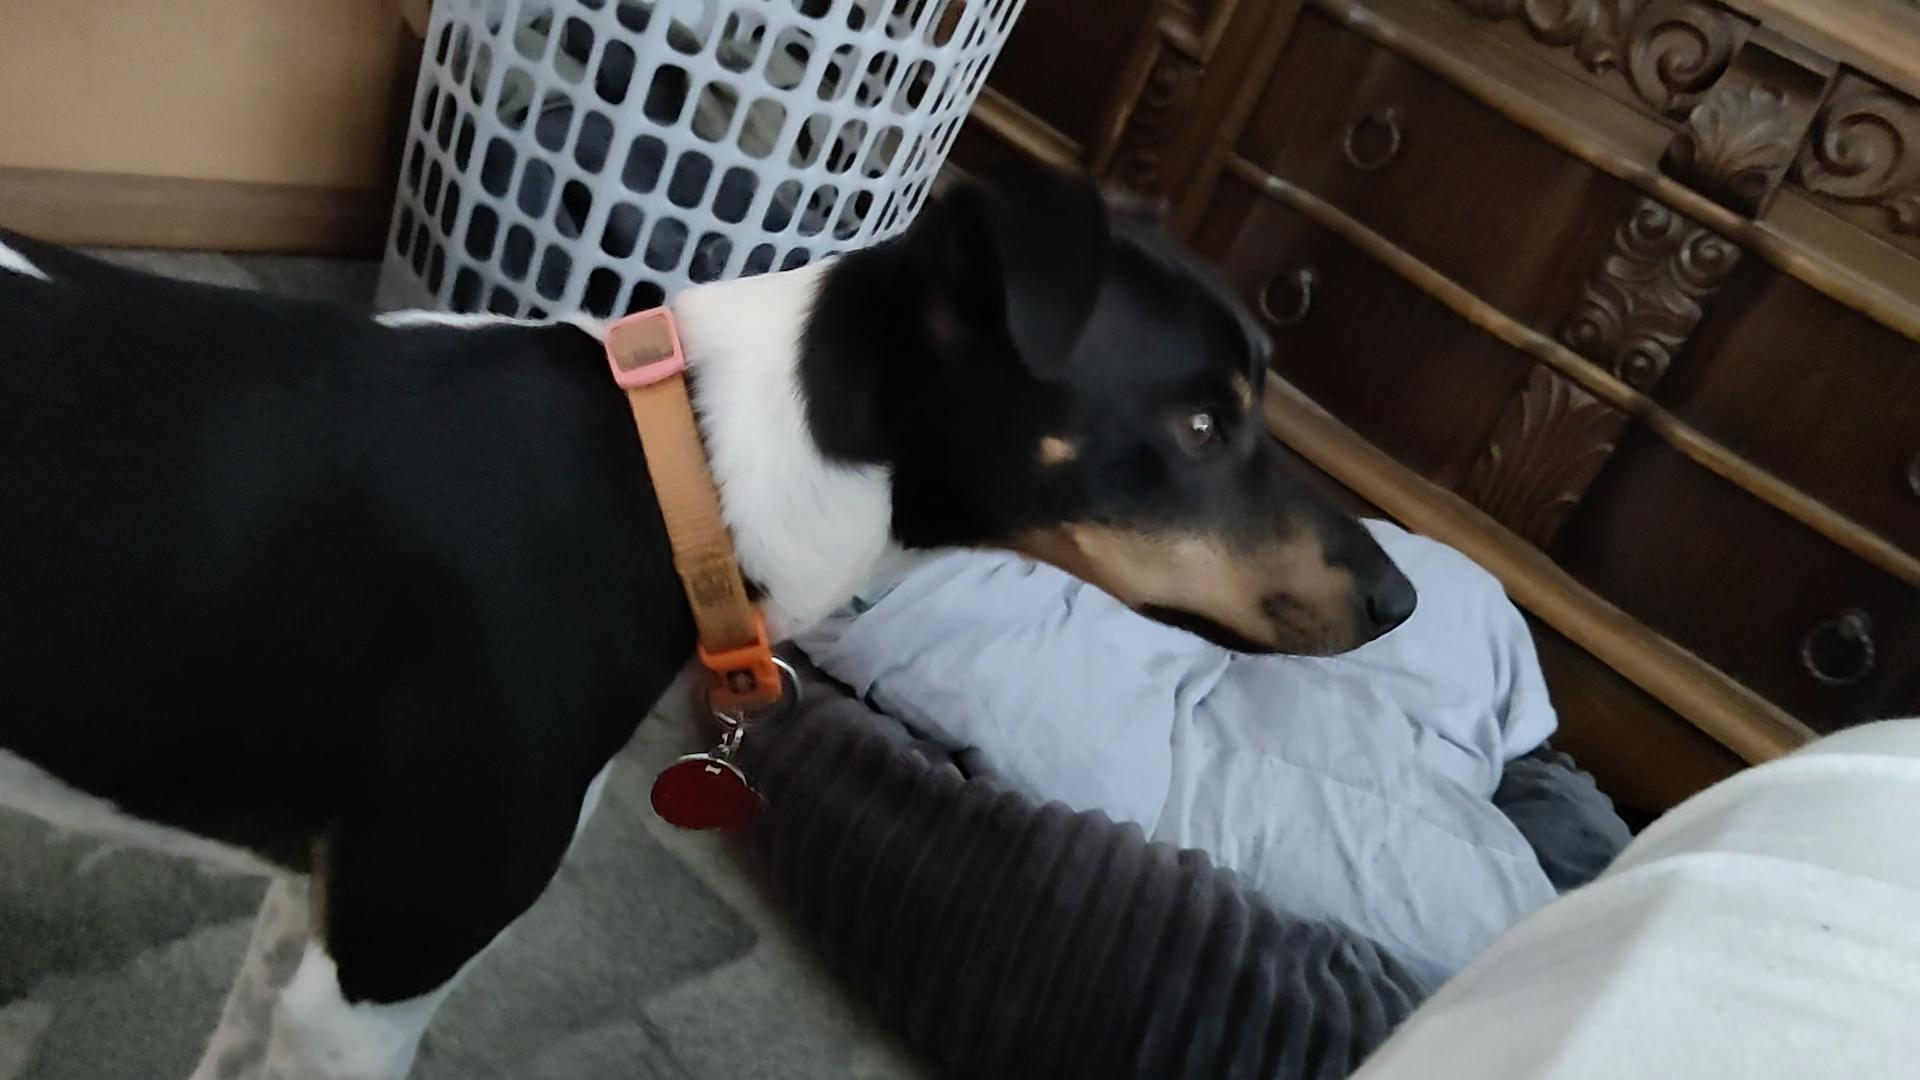Dog: (0, 160, 1429, 1079)
